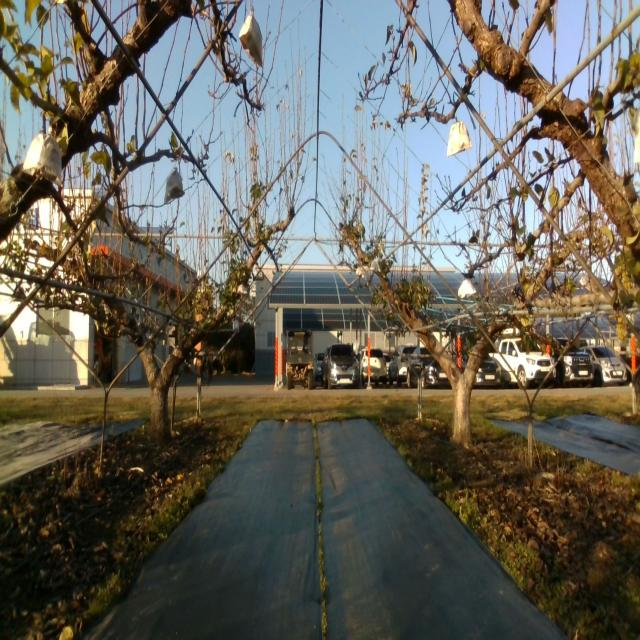pearbags: (22, 131, 62, 187), (238, 2, 264, 68), (446, 116, 472, 156), (164, 167, 184, 202), (458, 279, 476, 300)
